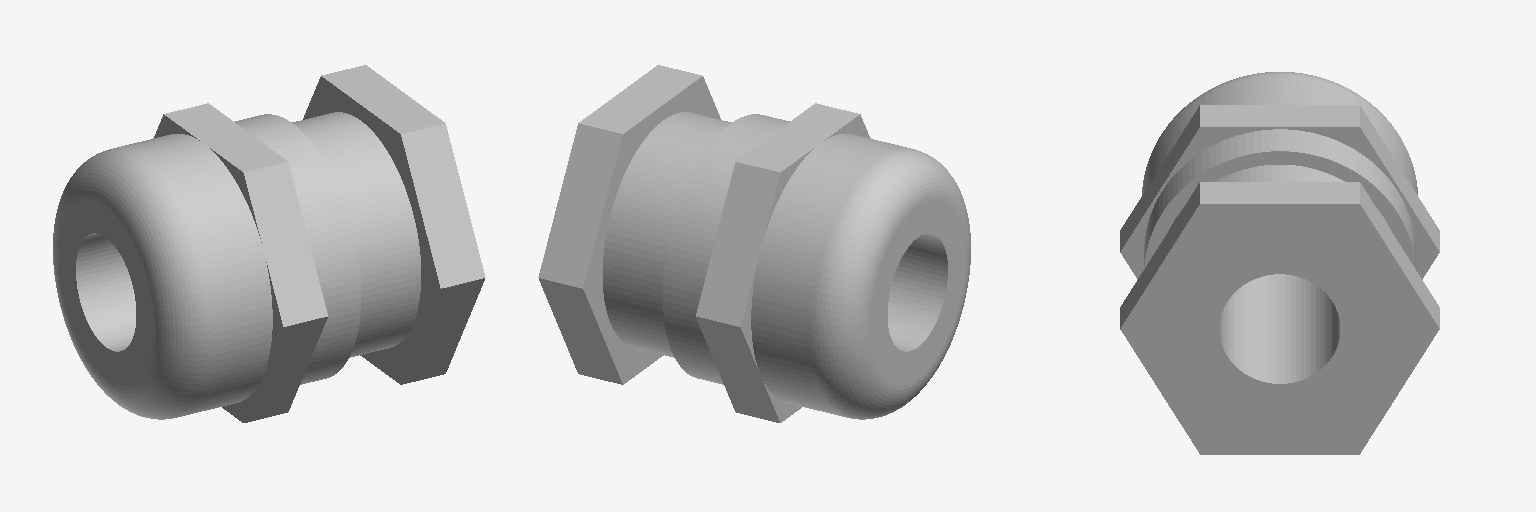
File: wsg50_110 v1_wsg50_110 v1_2_1_Body1_2.obj
3 renders of one model, left to right at view 1: azimuth 30°, elevation 25°; view 2: azimuth 150°, elevation 25°; view 3: azimuth 270°, elevation 25°, orthographic.
Visible parts, largest first — view 1: Body1; view 2: Body1; view 3: Body1.
Part boxes in pixels (left/top/right/bottom): Body1: left=53, top=65, right=485, bottom=422; Body1: left=538, top=65, right=970, bottom=422; Body1: left=1120, top=72, right=1439, bottom=454.
Size of the model in its own units: 0.02 by 0.016 by 0.0185.